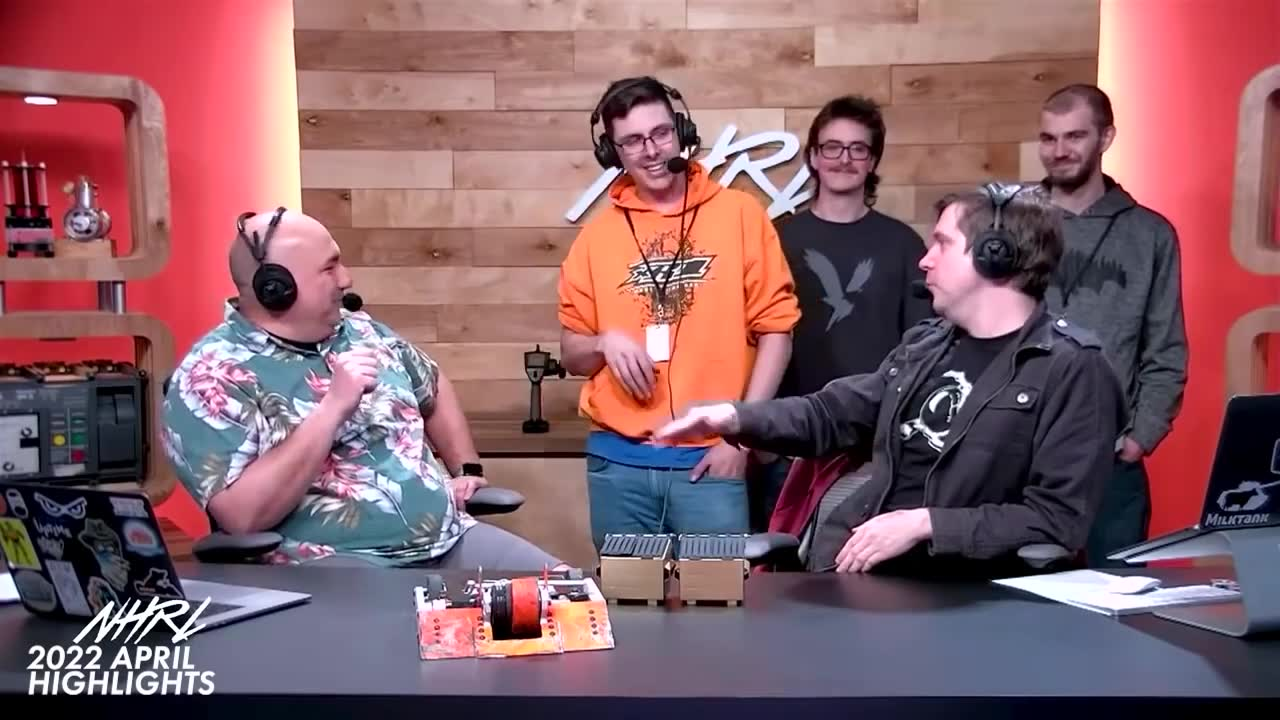combatbot: (409, 573, 616, 658)
